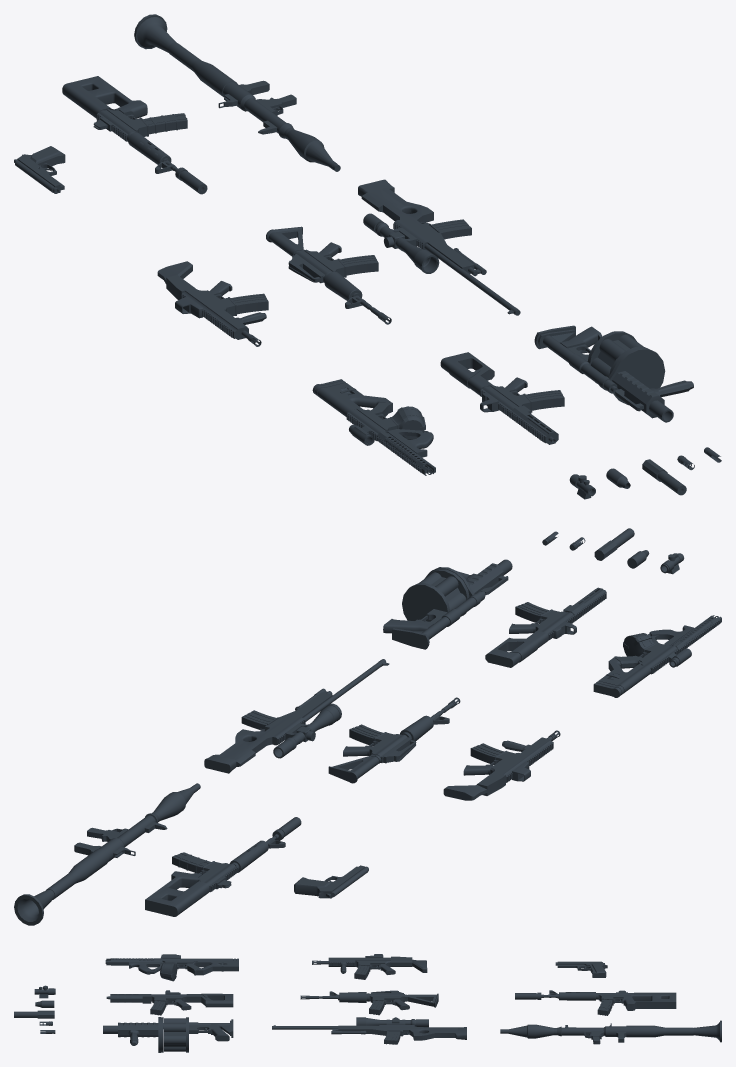
File: Guns.fbx
The picture shows the model from 3 angles, top to bottom: view 1: azimuth 30°, elevation 25°; view 2: azimuth 150°, elevation 25°; view 3: azimuth 270°, elevation 25°; orthographic projection. The views are drawn at different scales.
Parts seen in each view (by area): view 1: GL1, SNIPER1, RPG, MG2, MG3, MG4, MG1, MG5, MSR; view 2: GL1, SNIPER1, RPG, MG2, MG3, MG4, MG1, MG5, MSR; view 3: GL1, RPG, SNIPER1, MG2, MG3, MG4, MG5, MG1, MSR, BE4, BE5.
Part boxes in pixels (x1,y1,x2,y2): GL1: (534,325,693,422); SNIPER1: (358,179,520,315); RPG: (134,14,340,171); MG2: (62,76,207,194); MG3: (312,379,435,475); MG4: (440,352,564,444); MG1: (157,261,268,346); MG5: (266,226,391,324); MSR: (14,146,65,193); GL1: (383,559,512,649); SNIPER1: (204,659,389,773); RPG: (14,783,200,925); MG2: (145,817,301,916); MG3: (593,615,721,697); MG4: (485,587,606,667); MG1: (443,730,560,800); MG5: (328,697,460,783); MSR: (294,865,368,898); GL1: (103,1017,233,1052); RPG: (500,1020,721,1044); SNIPER1: (272,1017,466,1044); MG2: (515,990,676,1015); MG3: (105,954,238,981); MG4: (106,990,233,1015); MG5: (300,990,438,1015); MG1: (312,954,427,979); MSR: (555,961,607,977); BE4: (14,1010,54,1018); BE5: (34,985,55,998).
Size of the model in its own units: 686 by 118 by 2325.
